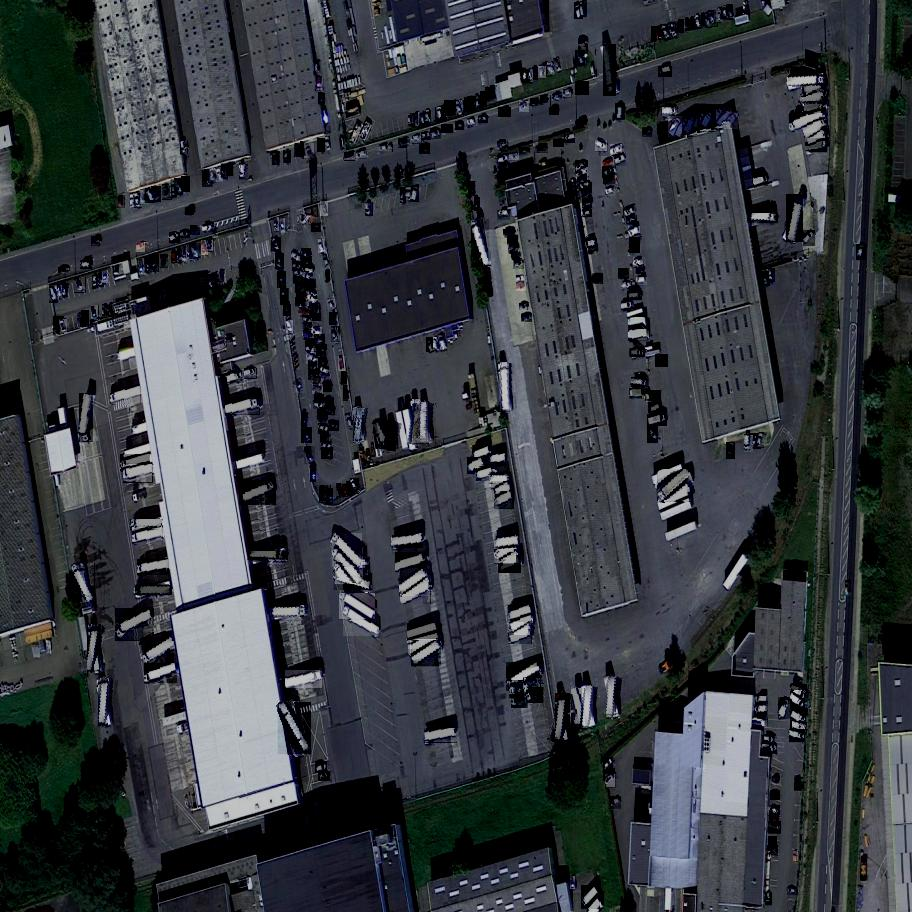large-vehicle: (277, 702, 312, 755), (112, 609, 157, 642), (334, 548, 366, 585), (332, 533, 365, 568), (505, 662, 543, 692), (658, 470, 692, 503), (338, 593, 377, 621), (471, 219, 492, 268), (71, 563, 96, 603), (342, 612, 381, 637), (238, 480, 277, 505), (789, 109, 827, 134), (141, 638, 175, 665), (399, 569, 431, 597), (786, 194, 804, 242), (411, 641, 443, 667), (333, 570, 373, 590), (144, 663, 180, 685), (400, 582, 434, 605), (409, 631, 441, 655), (284, 670, 324, 689), (555, 693, 570, 743), (603, 44, 617, 96), (572, 689, 589, 730), (395, 552, 429, 572), (88, 624, 101, 672), (407, 623, 441, 641), (225, 399, 261, 416), (109, 386, 143, 404), (122, 464, 155, 482), (373, 420, 393, 449), (80, 394, 92, 442), (131, 529, 164, 545), (137, 560, 170, 576), (120, 455, 151, 472), (509, 614, 534, 635), (494, 544, 519, 565), (424, 729, 458, 744), (803, 78, 828, 98), (497, 554, 523, 573), (583, 685, 594, 729), (500, 363, 510, 411), (98, 678, 108, 725), (804, 119, 827, 139), (507, 606, 534, 623), (806, 128, 830, 147), (353, 407, 365, 443), (508, 627, 533, 644), (607, 677, 617, 719), (787, 76, 825, 87), (392, 535, 424, 548), (413, 400, 422, 443), (131, 519, 163, 531), (136, 585, 172, 595), (493, 537, 519, 550), (748, 214, 778, 225), (421, 403, 429, 443), (249, 551, 287, 559), (804, 101, 827, 114), (270, 609, 306, 617), (805, 142, 828, 153), (388, 421, 396, 451), (627, 330, 648, 341), (801, 95, 826, 104), (628, 318, 645, 330)
small-vehicle: (579, 886, 604, 911), (699, 110, 718, 132), (492, 481, 514, 500), (494, 491, 516, 510), (467, 458, 489, 476), (715, 108, 734, 128), (789, 691, 809, 709), (683, 113, 698, 137), (471, 445, 493, 461), (667, 116, 683, 138), (526, 687, 545, 704), (789, 709, 809, 725), (692, 112, 707, 133), (509, 682, 528, 698), (511, 692, 530, 708), (674, 118, 689, 138), (711, 107, 724, 130), (778, 698, 792, 719), (723, 113, 740, 130), (524, 678, 543, 693), (225, 370, 245, 384), (648, 414, 669, 427), (787, 730, 807, 743), (487, 453, 507, 466), (790, 684, 809, 697), (476, 468, 495, 481), (202, 169, 215, 187), (304, 446, 316, 465), (767, 821, 783, 835), (654, 354, 670, 368), (647, 426, 660, 443), (437, 334, 449, 352), (803, 230, 817, 245), (603, 757, 617, 772), (575, 82, 590, 96), (189, 244, 202, 260), (53, 317, 65, 334), (174, 178, 186, 195), (74, 277, 86, 294), (444, 100, 456, 117), (645, 390, 662, 402), (277, 271, 288, 289), (305, 352, 320, 365), (307, 367, 322, 380), (604, 775, 619, 788), (623, 205, 638, 218), (610, 144, 625, 157), (601, 157, 616, 170), (301, 427, 313, 443), (750, 433, 762, 449), (708, 10, 720, 26), (753, 175, 769, 187), (575, 51, 587, 67), (467, 97, 479, 113), (648, 403, 664, 415), (608, 797, 624, 809), (489, 476, 508, 486), (345, 413, 356, 430), (49, 286, 60, 303), (791, 722, 808, 733), (761, 744, 778, 755), (304, 143, 315, 160), (632, 377, 649, 388), (300, 248, 314, 261), (303, 279, 317, 292), (306, 294, 320, 307), (496, 139, 510, 152), (595, 140, 609, 153), (576, 167, 590, 180), (576, 174, 590, 187), (298, 307, 313, 319), (280, 288, 290, 306), (149, 255, 159, 273), (314, 761, 329, 773), (658, 66, 673, 78), (574, 2, 584, 20), (271, 237, 282, 253), (162, 184, 173, 200), (151, 186, 162, 202), (670, 22, 681, 38), (660, 24, 671, 40), (552, 58, 563, 74), (857, 244, 867, 261), (411, 185, 421, 202), (726, 442, 736, 459), (302, 273, 316, 285), (305, 288, 319, 300), (303, 329, 317, 341), (300, 256, 314, 268), (320, 447, 334, 459), (169, 233, 183, 245), (768, 814, 782, 826), (418, 143, 432, 155), (602, 769, 616, 781), (294, 380, 306, 394), (496, 154, 510, 166), (613, 154, 627, 166), (575, 160, 589, 172), (602, 166, 616, 178), (205, 275, 216, 290), (211, 273, 222, 288), (326, 421, 341, 432), (316, 423, 331, 434), (319, 439, 334, 450), (753, 717, 768, 728), (320, 485, 329, 503), (744, 435, 753, 453), (319, 201, 329, 217), (794, 775, 804, 791), (543, 62, 553, 78), (313, 334, 326, 346), (316, 409, 329, 421), (430, 128, 443, 140), (629, 241, 642, 253), (295, 291, 309, 302), (350, 479, 361, 493), (768, 805, 782, 816), (628, 226, 642, 237), (218, 269, 227, 286), (81, 310, 90, 327), (181, 176, 190, 193), (239, 163, 248, 180), (616, 103, 625, 120), (331, 327, 341, 342), (272, 151, 282, 166), (145, 188, 155, 203), (754, 704, 769, 714), (346, 481, 355, 497), (318, 238, 327, 254), (134, 192, 143, 208), (426, 337, 435, 353), (457, 101, 466, 117), (307, 361, 320, 372), (323, 405, 336, 416), (315, 350, 328, 361), (766, 845, 779, 856), (634, 265, 647, 276), (506, 235, 519, 246), (318, 771, 331, 782), (591, 274, 605, 284), (294, 143, 304, 157), (547, 62, 557, 76), (535, 143, 549, 153), (631, 348, 645, 358), (630, 389, 644, 399), (663, 106, 677, 116), (276, 253, 284, 270), (337, 356, 346, 371), (91, 306, 100, 321), (761, 271, 770, 286), (521, 69, 530, 84), (627, 291, 642, 300), (295, 283, 307, 294), (310, 312, 322, 323), (302, 315, 314, 326), (290, 251, 302, 262), (311, 375, 323, 386), (317, 358, 329, 369), (771, 775, 783, 786), (642, 127, 654, 138), (618, 269, 630, 280), (513, 259, 525, 270), (519, 101, 531, 112), (541, 95, 553, 106), (291, 261, 304, 271), (311, 327, 324, 337), (302, 321, 315, 331), (244, 369, 257, 379), (312, 385, 325, 395), (329, 312, 339, 325), (581, 189, 594, 199), (508, 244, 521, 254), (727, 4, 735, 20), (61, 319, 70, 333), (721, 6, 730, 20), (317, 139, 326, 153), (295, 298, 307, 308), (160, 254, 168, 269), (201, 240, 209, 255), (319, 367, 331, 377), (336, 484, 344, 499), (61, 283, 69, 298), (770, 790, 782, 800), (309, 304, 321, 314), (521, 313, 533, 323), (498, 211, 510, 221), (516, 282, 528, 292), (441, 125, 453, 135), (499, 107, 511, 117), (452, 100, 460, 115), (626, 216, 638, 226), (582, 198, 594, 208), (310, 465, 317, 482), (326, 488, 333, 505), (302, 267, 315, 276), (304, 339, 317, 348), (321, 383, 334, 392), (327, 299, 336, 312), (694, 16, 703, 29), (283, 304, 292, 317), (579, 183, 592, 192), (187, 245, 194, 261), (287, 320, 295, 334), (325, 137, 332, 153), (379, 145, 393, 153), (139, 259, 146, 275), (226, 163, 234, 177), (656, 26, 664, 40), (436, 107, 444, 121), (480, 92, 487, 108), (190, 226, 201, 236), (314, 394, 325, 404), (768, 837, 779, 847), (91, 237, 102, 247), (421, 132, 432, 142), (455, 121, 466, 131), (80, 260, 92, 269), (584, 239, 596, 248), (216, 167, 223, 182), (759, 433, 766, 448), (667, 24, 674, 39), (314, 59, 321, 74), (464, 98, 471, 113), (55, 286, 63, 299), (765, 892, 773, 905), (538, 66, 546, 79), (313, 401, 324, 410), (324, 397, 335, 406), (356, 150, 367, 159), (398, 139, 409, 148), (320, 433, 331, 442), (136, 243, 147, 252), (633, 258, 644, 267), (605, 187, 616, 196), (366, 203, 373, 217), (222, 165, 229, 179), (93, 275, 100, 289), (469, 181, 476, 195), (528, 69, 535, 83), (419, 112, 426, 126), (490, 85, 497, 99), (293, 269, 305, 277), (107, 305, 115, 317), (171, 251, 178, 264), (341, 372, 348, 385), (322, 254, 329, 267), (285, 150, 292, 163), (118, 195, 125, 208), (342, 485, 349, 498), (768, 268, 775, 281), (425, 111, 432, 124), (182, 248, 188, 263), (301, 412, 307, 427), (407, 187, 413, 202), (651, 26, 657, 41), (622, 301, 632, 310), (321, 375, 332, 383), (787, 888, 798, 896), (185, 208, 196, 216), (553, 139, 564, 147), (564, 134, 575, 142), (140, 190, 146, 204), (474, 197, 480, 211), (467, 118, 476, 127), (705, 12, 710, 28), (630, 235, 640, 243), (478, 116, 488, 124), (637, 277, 647, 285), (581, 1, 586, 17), (582, 209, 592, 217), (755, 697, 768, 703), (678, 20, 684, 33), (317, 77, 323, 90), (181, 141, 187, 154), (344, 153, 355, 160), (318, 93, 325, 104), (620, 282, 631, 289), (343, 385, 348, 400), (401, 188, 406, 203), (146, 257, 151, 272), (130, 194, 135, 209), (300, 142, 305, 157), (203, 224, 212, 232), (579, 39, 588, 47), (519, 303, 528, 311), (415, 113, 420, 127), (99, 273, 104, 287), (172, 183, 177, 197), (476, 95, 481, 109), (274, 218, 279, 231), (103, 270, 108, 283), (717, 9, 722, 22), (307, 345, 315, 353), (412, 136, 421, 143), (180, 231, 189, 238), (552, 94, 561, 101), (409, 113, 414, 125), (78, 313, 82, 328), (211, 169, 216, 181), (690, 17, 695, 29), (701, 13, 706, 25), (509, 154, 519, 160), (312, 224, 320, 231), (326, 269, 330, 283), (520, 148, 528, 155), (517, 276, 525, 283), (442, 105, 446, 119), (486, 87, 490, 101), (208, 240, 213, 251), (316, 344, 327, 349), (163, 291, 168, 302), (151, 294, 156, 305), (765, 736, 774, 742), (58, 267, 67, 273), (103, 305, 107, 318), (533, 67, 537, 80), (793, 851, 798, 861), (604, 178, 614, 183), (531, 99, 538, 106), (564, 90, 571, 97), (846, 580, 849, 596), (686, 19, 690, 31), (743, 2, 747, 14), (571, 877, 575, 889), (294, 278, 303, 283), (549, 109, 558, 114), (578, 120, 587, 125), (282, 219, 285, 233), (503, 230, 513, 234), (178, 250, 181, 263), (434, 338, 437, 350), (512, 254, 519, 259)
